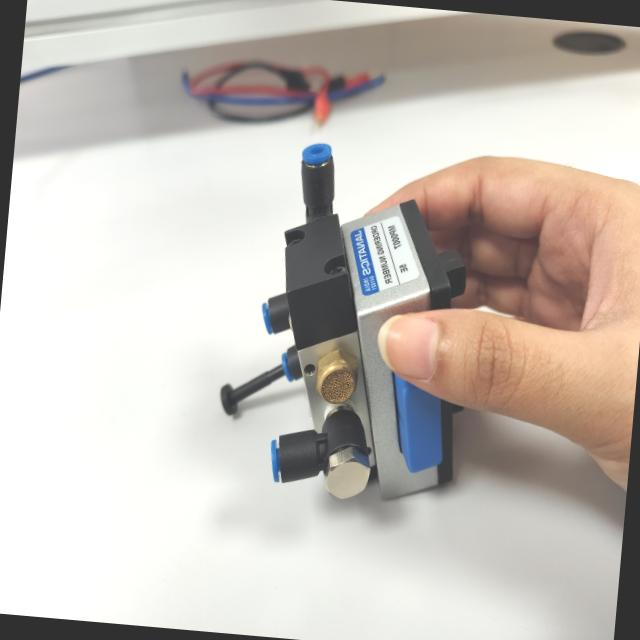5by2 DCV: (202, 115, 490, 520)
